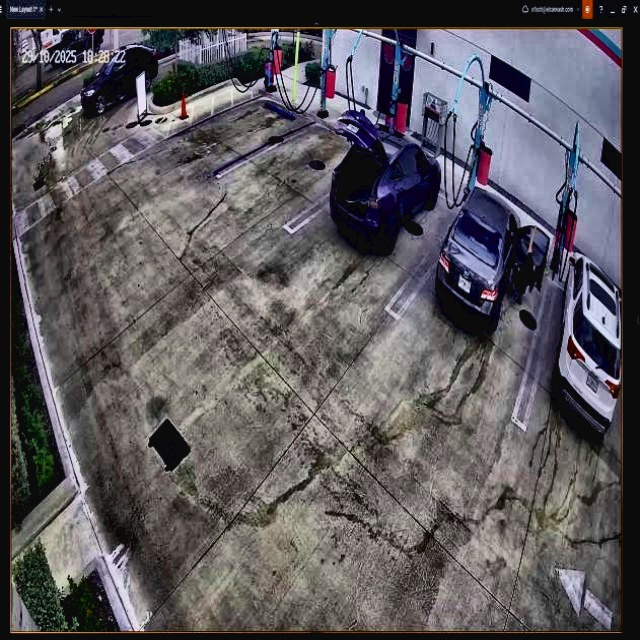Car: (437, 189, 548, 328), (330, 111, 441, 247)
